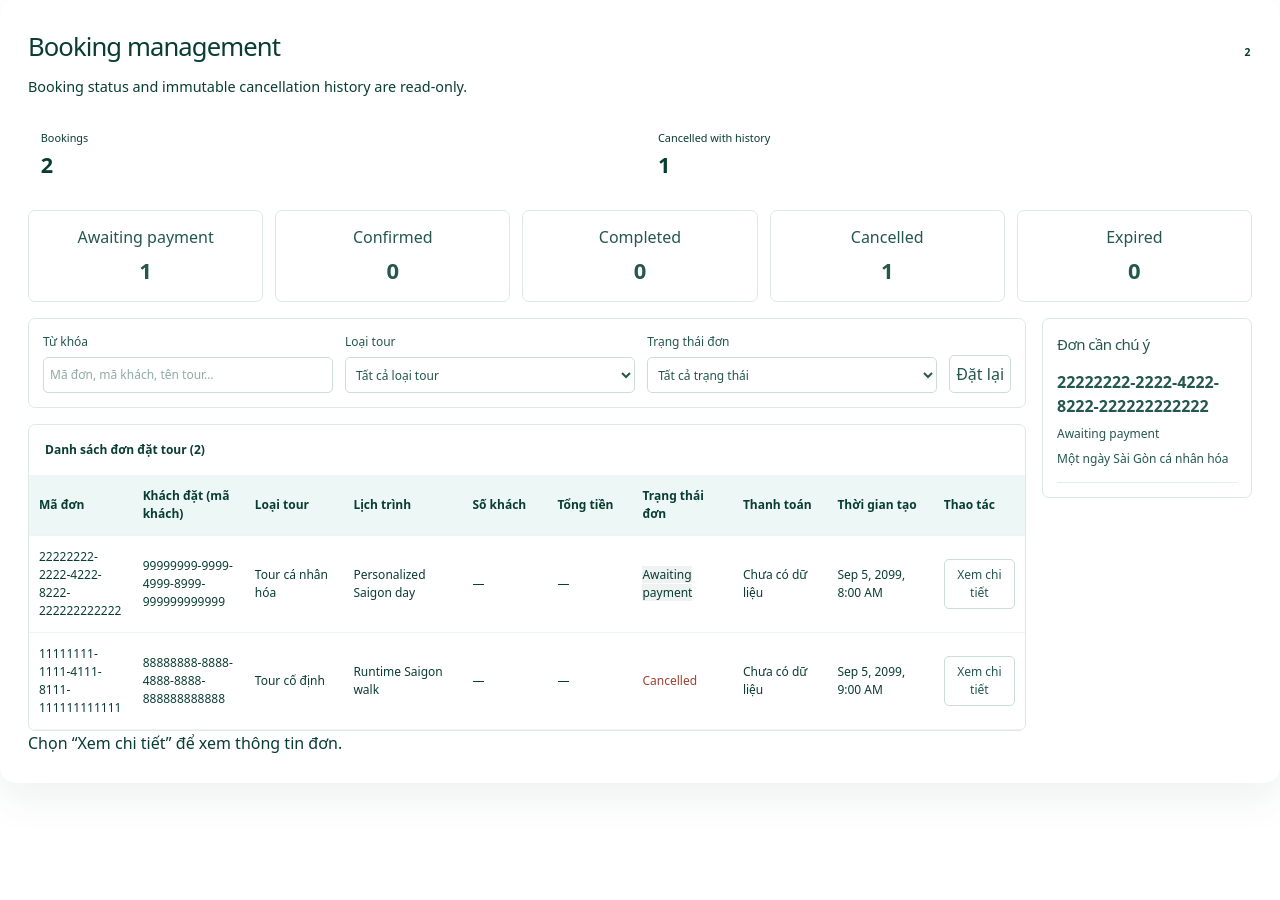
it: runtime booking management › renders every booking and nullable cancellation history without decision controls in en
Click the button "Xem chi tiết" in the row of "99999999-9999-4999-8999-999999999999" at coordinates (979, 584), box [944,559,1015,609]
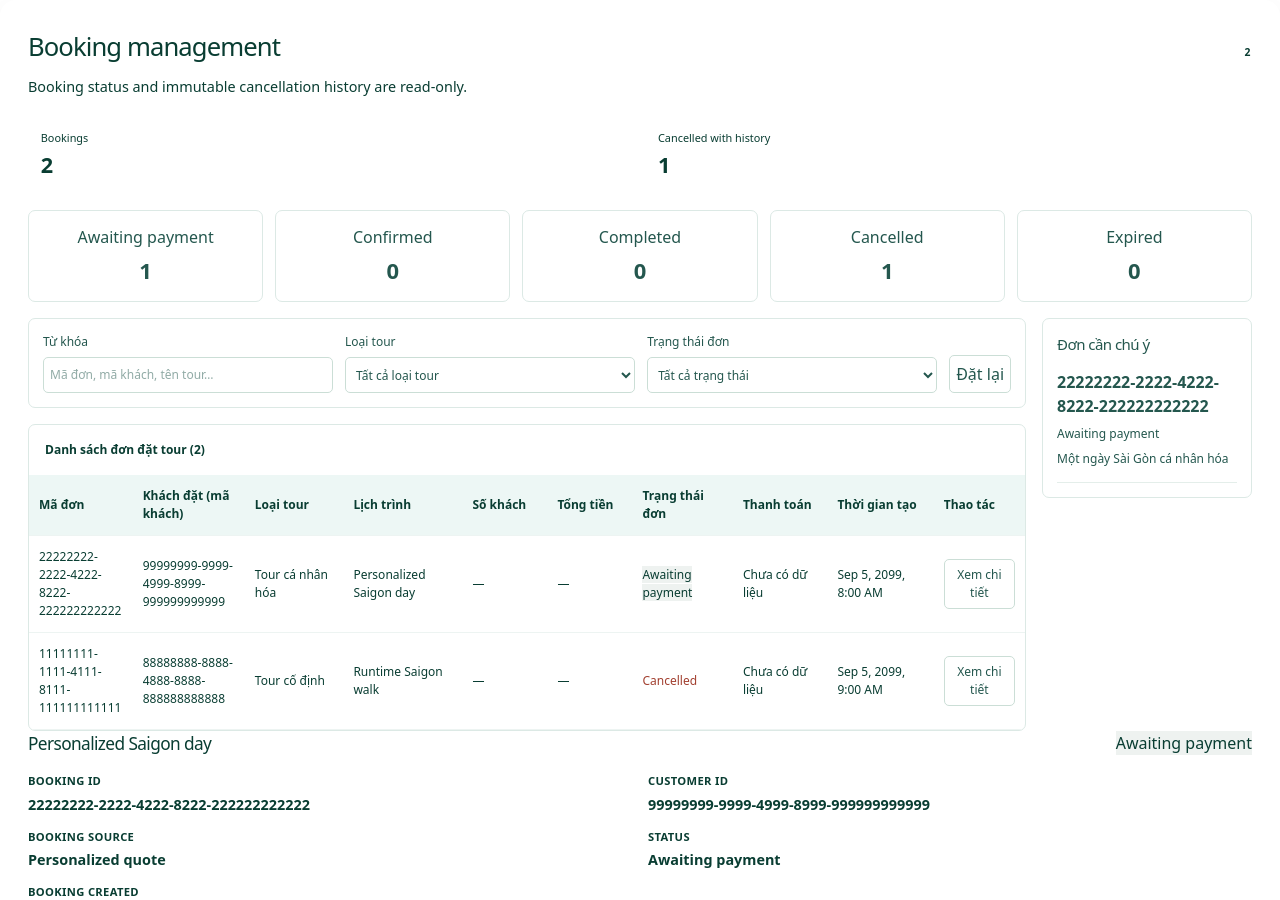
Expected: the element "Personalized Saigon day" shows "22222222-2222-4222-8222-222222222222", [28,795,310,814]
Expected: the element "Personalized Saigon day" shows "Awaiting payment", [1116,732,1252,754]
Click the button "Xem chi tiết" in the row of "11111111-1111-4111-8111-111111111111" at coordinates (979, 681), box [944,656,1015,706]
(page scrolled)
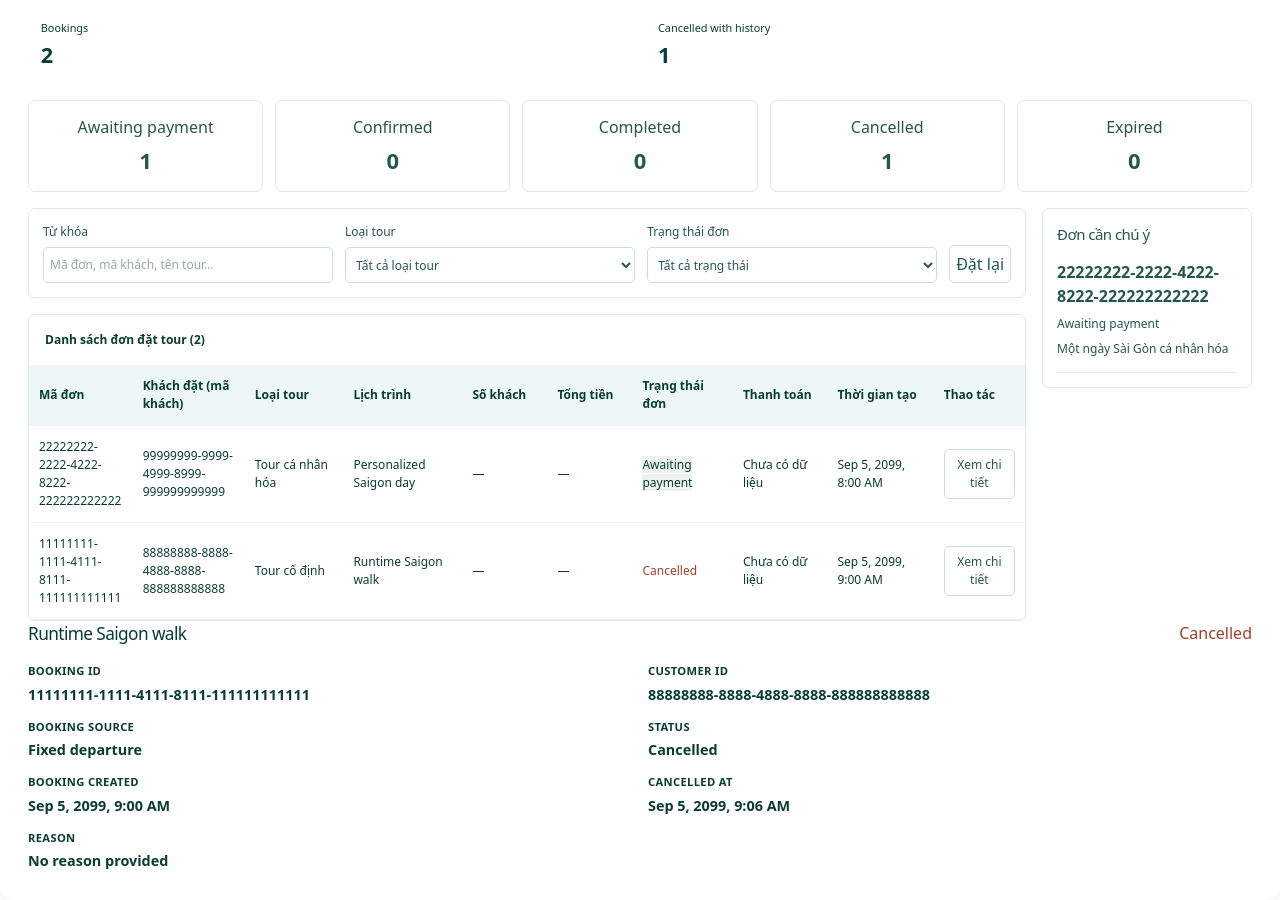
Expected: the element "Runtime Saigon walk" shows "Cancelled", [1179,622,1252,644]
Expected: the element "Runtime Saigon walk" shows "No reason provided", [28,851,168,870]
Expected: the element "Runtime Saigon walk" shows "Fixed departure", [28,740,142,759]
